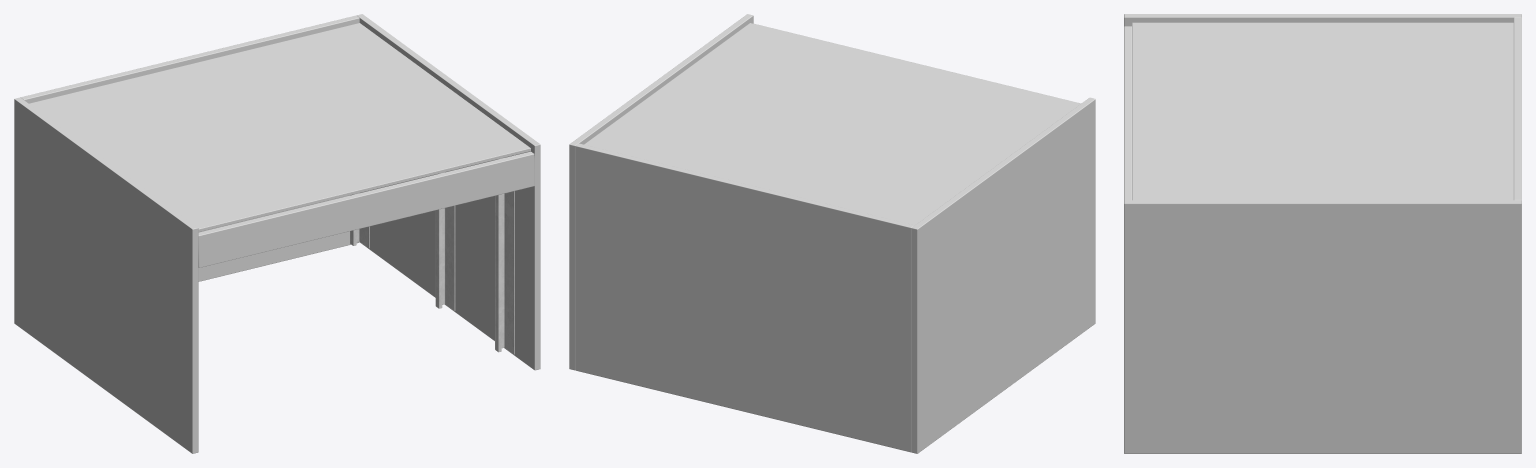
File: SM_Kitchen_11_Base.obj
3 views of the same model, side by side, from view 1: azimuth 30°, elevation 25°; view 2: azimuth 150°, elevation 25°; view 3: azimuth 270°, elevation 25° (orthographic). The views are drawn at different scales.
Visible parts, largest first — view 1: SM_Kitchen_11_Base; view 2: SM_Kitchen_11_Base; view 3: SM_Kitchen_11_Base.
Boxes of the visible parts, left/top/right/bottom form: SM_Kitchen_11_Base: left=14, top=14, right=540, bottom=453; SM_Kitchen_11_Base: left=569, top=14, right=1095, bottom=453; SM_Kitchen_11_Base: left=1124, top=14, right=1521, bottom=453.
Bounding box in the file's own units: 0.8999 × 0.5549 × 0.798.
Materials: 2 (2 with a texture image).
